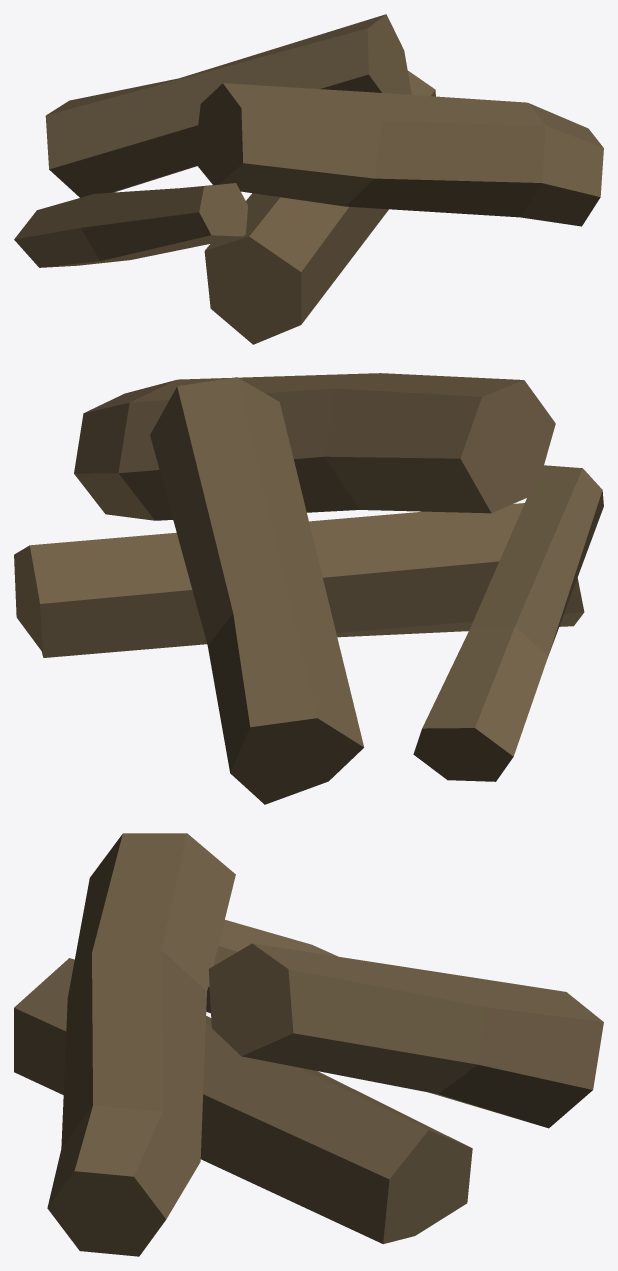
File: greek_wood_pile.fbx
3 renders of one model, top to bottom at view 1: azimuth 30°, elevation 25°; view 2: azimuth 150°, elevation 25°; view 3: azimuth 270°, elevation 25°, orthographic. The views are drawn at different scales.
Parts seen in each view (by area): view 1: Cylinder.025; view 2: Cylinder.025; view 3: Cylinder.025.
Part boxes in pixels (x1=…): Cylinder.025: x1=14, y1=14, x2=603, y2=344; Cylinder.025: x1=14, y1=373, x2=603, y2=804; Cylinder.025: x1=14, y1=833, x2=603, y2=1256.
Size of the model in its own units: 54.42 by 26.15 by 49.35.
